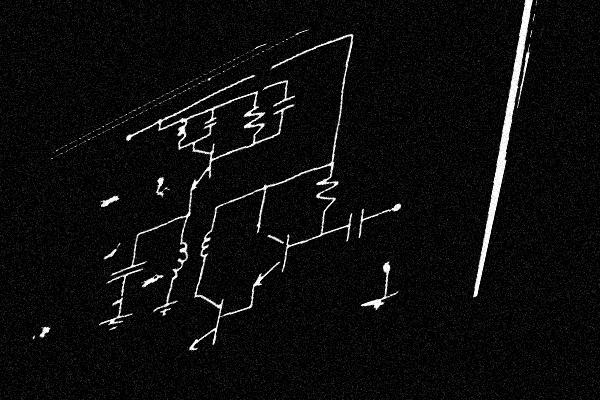capacitor: (104, 255, 150, 289), (338, 202, 371, 247), (268, 89, 300, 122), (200, 113, 220, 135)
ground: (356, 283, 402, 319), (94, 303, 137, 338), (149, 294, 181, 322)
inductor: (168, 231, 194, 287), (195, 221, 217, 267), (172, 114, 192, 147)
resistor: (306, 164, 345, 224), (235, 93, 273, 147)
